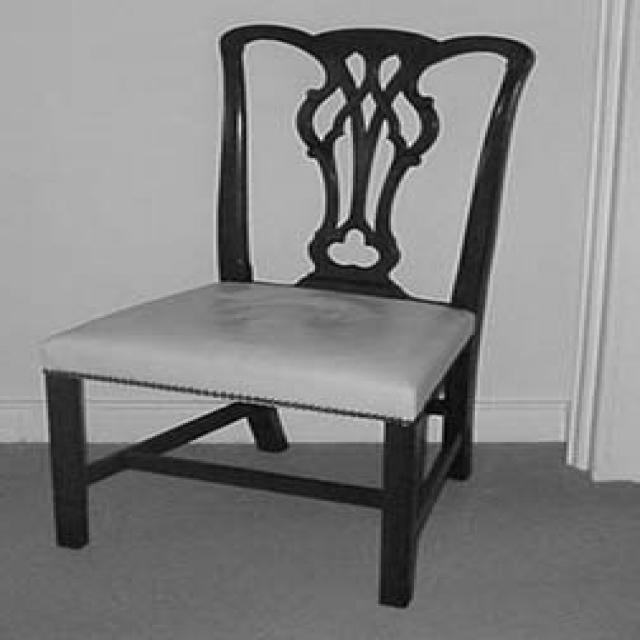chair: (39, 19, 542, 608)
